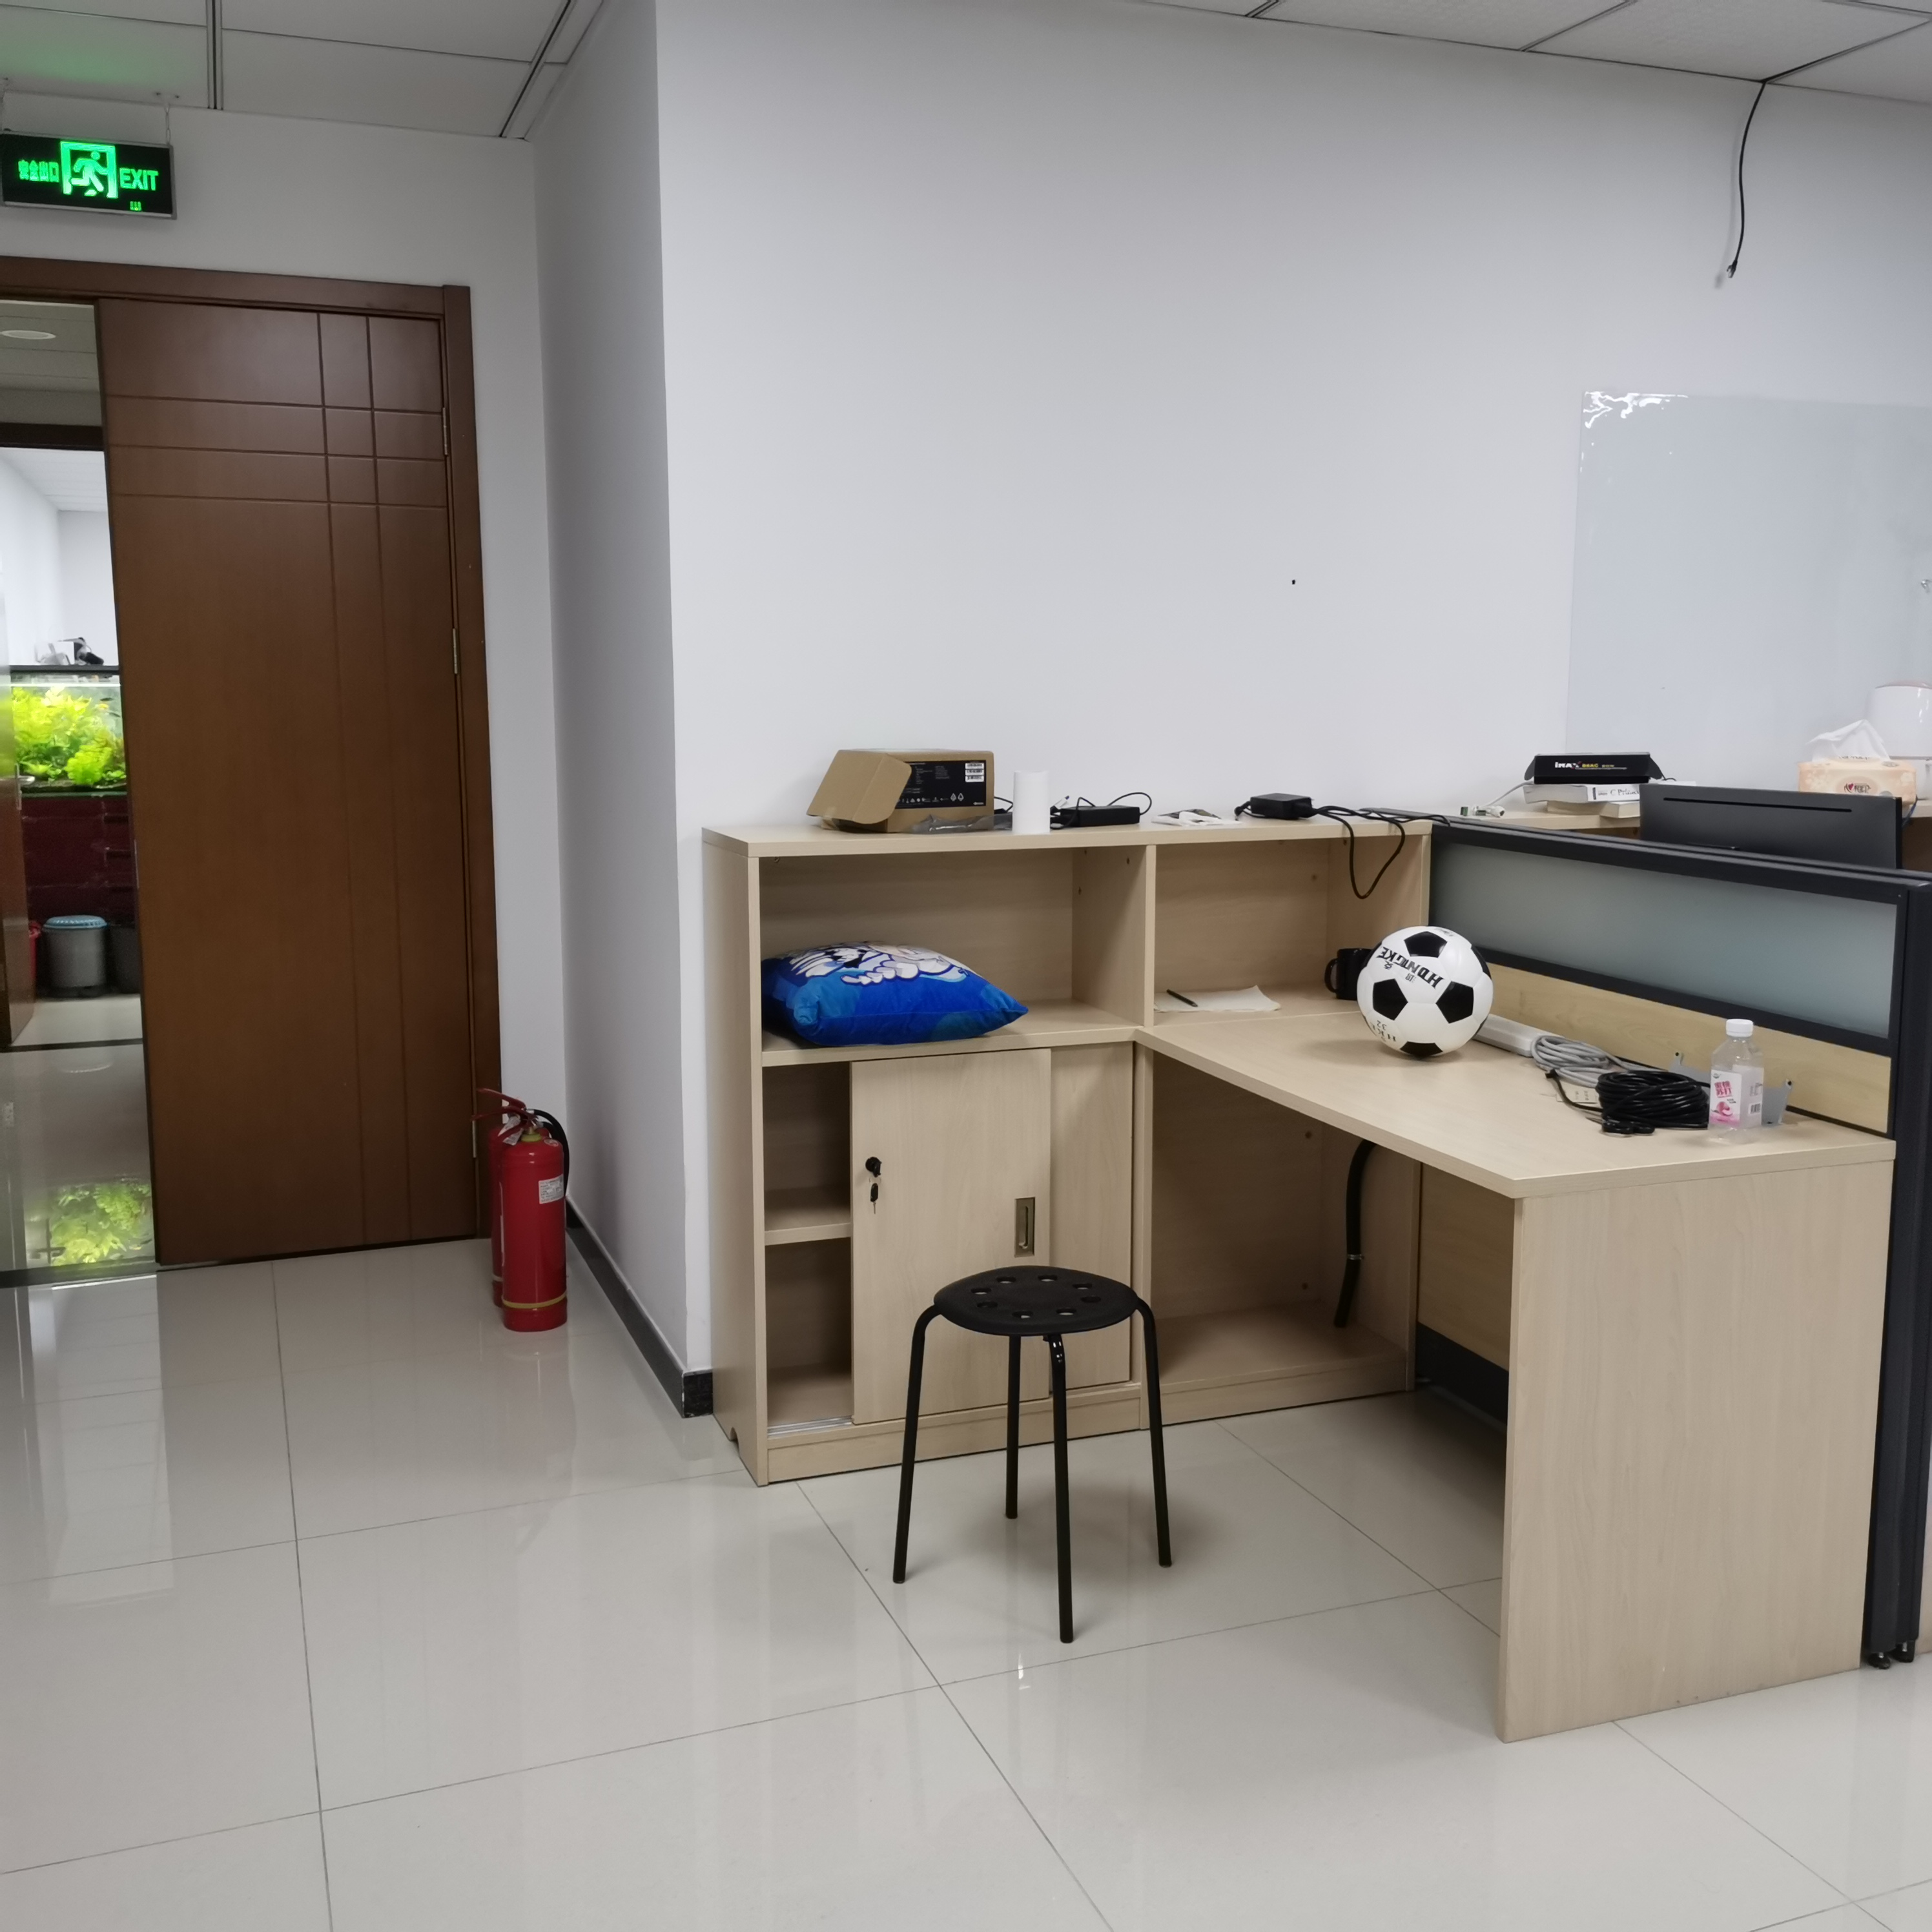football: (1355, 927, 1497, 1060)
